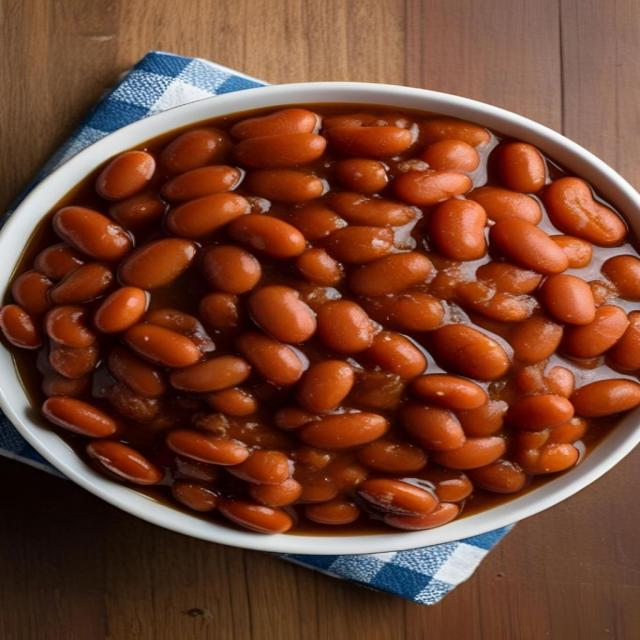beans: (0, 107, 639, 533), (543, 177, 626, 246), (430, 324, 509, 379), (490, 219, 568, 274), (53, 207, 132, 261), (248, 285, 316, 343), (120, 239, 196, 289), (166, 193, 250, 238), (349, 252, 432, 296), (237, 332, 303, 386), (562, 305, 628, 358), (430, 199, 487, 260), (228, 214, 306, 258), (124, 324, 201, 368), (87, 440, 163, 484), (298, 413, 388, 449), (234, 133, 326, 168), (399, 403, 465, 451), (456, 282, 535, 322), (160, 129, 229, 174), (144, 309, 214, 353), (366, 292, 444, 331), (170, 355, 250, 393), (317, 300, 374, 353), (297, 360, 355, 412), (364, 331, 427, 378), (42, 397, 116, 437), (201, 245, 261, 294), (166, 430, 249, 465), (96, 151, 155, 200), (330, 192, 415, 226), (161, 165, 241, 201), (393, 170, 472, 206), (108, 348, 166, 397), (539, 274, 595, 324), (358, 479, 437, 514), (244, 169, 325, 203), (230, 108, 318, 139), (468, 187, 541, 224), (412, 374, 487, 410), (326, 127, 413, 158), (49, 263, 113, 304), (509, 316, 563, 364), (571, 379, 639, 417), (325, 226, 393, 264), (219, 499, 293, 533), (498, 142, 546, 193), (94, 287, 147, 333), (357, 439, 427, 473), (507, 395, 573, 431), (432, 437, 506, 469), (109, 190, 166, 229), (477, 261, 542, 294), (228, 450, 290, 484), (421, 117, 491, 147), (350, 371, 405, 409), (288, 204, 346, 240), (384, 503, 460, 530), (45, 306, 95, 347), (515, 363, 575, 397), (514, 444, 579, 474), (469, 460, 527, 493), (420, 140, 479, 172), (334, 159, 387, 194), (0, 305, 42, 349), (12, 270, 53, 315), (608, 311, 639, 370), (34, 244, 84, 280), (295, 248, 342, 286), (457, 401, 507, 436), (49, 343, 98, 378), (425, 467, 473, 502), (602, 255, 639, 300), (199, 292, 239, 330), (249, 478, 302, 506), (207, 387, 257, 416), (172, 480, 218, 511), (551, 235, 593, 268), (327, 457, 369, 490), (305, 499, 359, 524), (175, 456, 220, 482), (42, 374, 90, 397), (293, 445, 335, 471), (547, 417, 588, 443), (275, 406, 319, 430), (323, 112, 376, 130), (300, 479, 339, 503), (545, 367, 575, 397), (512, 430, 550, 450), (588, 279, 616, 306)
